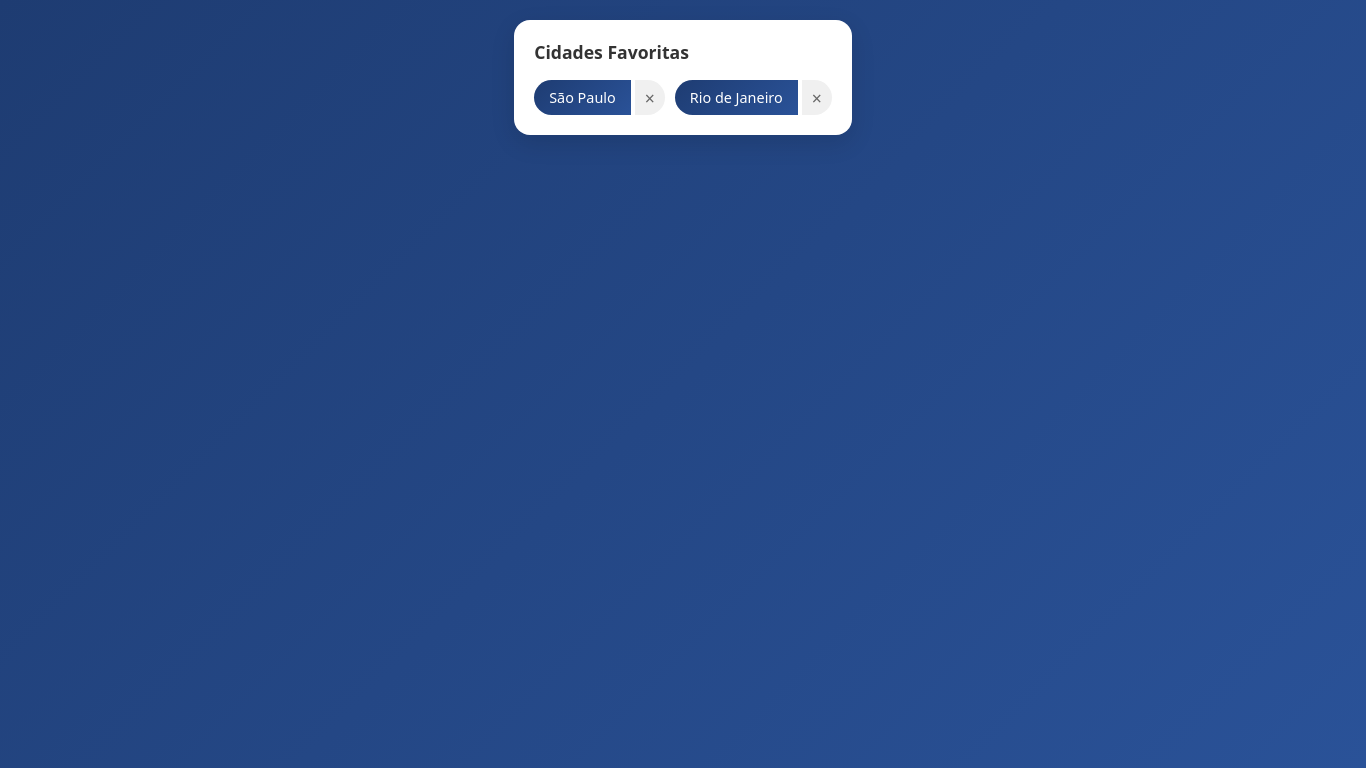
Test: FavoriteCities › removes a favorite when the remove button is clicked
Click the button named "Remover São Paulo dos favoritos" at (650, 98), box [635, 80, 665, 115]
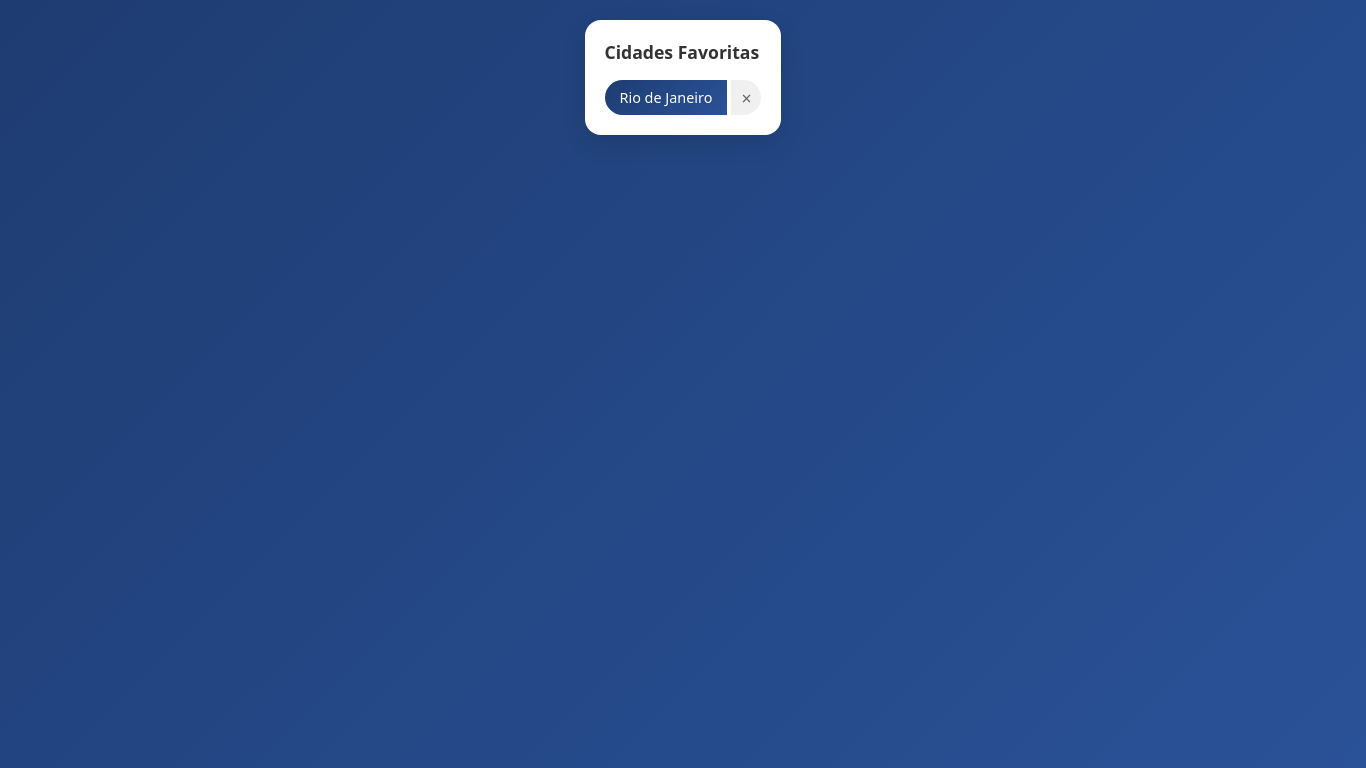
Result: the button "São Paulo" is gone
